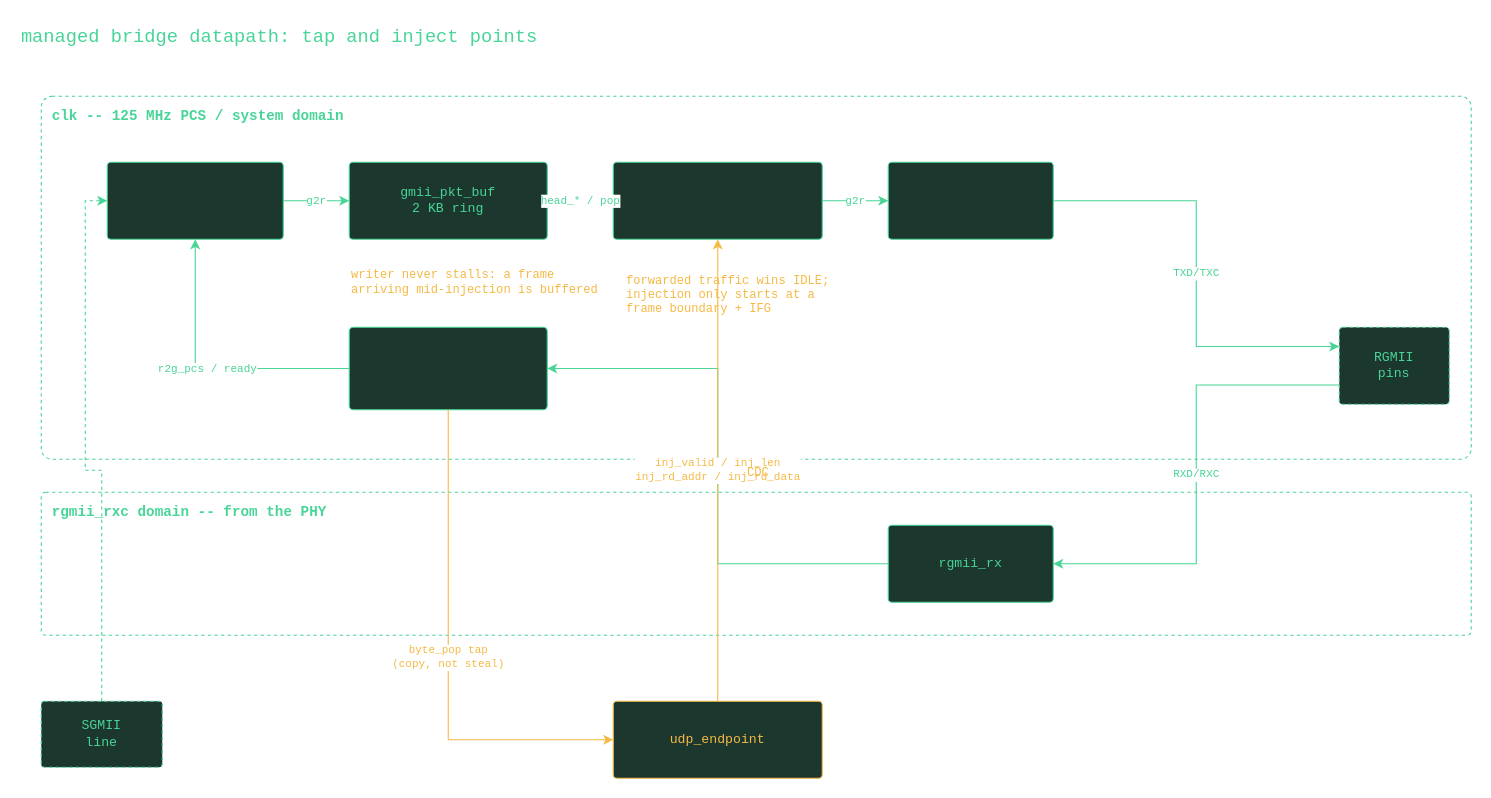
This 1491x798 diagram has some shape labels left out. The shapes that lost their labels are listed below. From the top down, each one's box as (x1, y1, x2, y2) in pixels, then its label:
(106, 161, 283, 239): sgmii_pcs
(612, 161, 822, 239): g2r_inject_mux
(887, 161, 1053, 239): rgmii_tx
(348, 326, 547, 410): r2g_expander dual-clock FIFO
